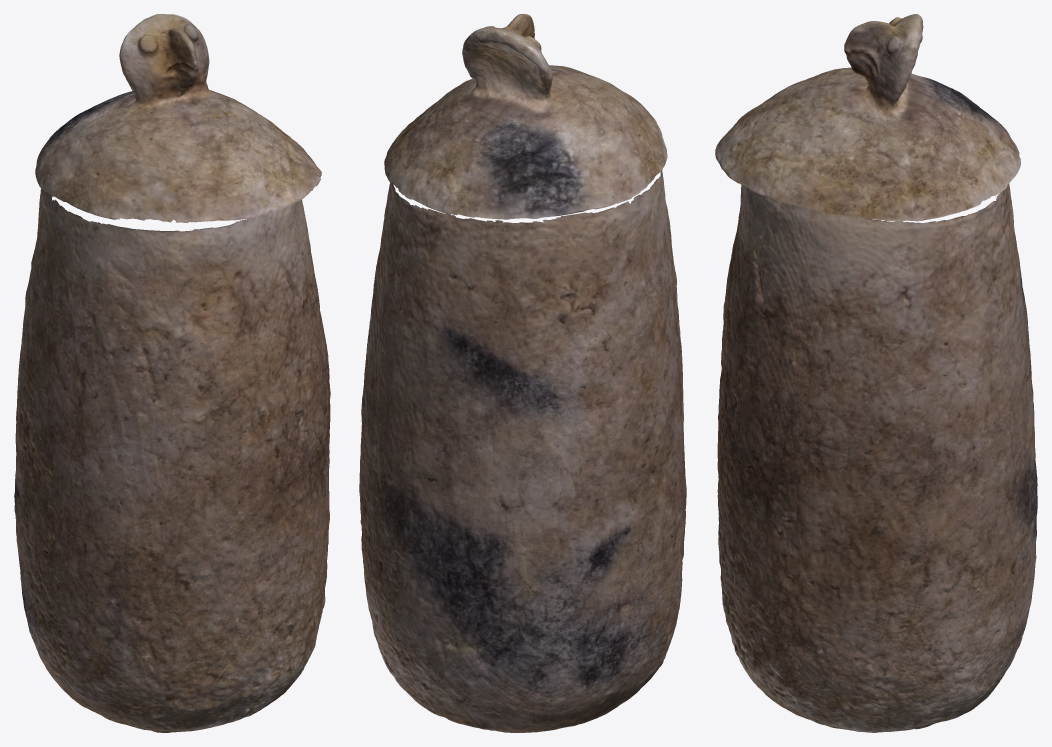
The picture shows the model from 3 angles, left to right: view 1: azimuth 30°, elevation 25°; view 2: azimuth 150°, elevation 25°; view 3: azimuth 270°, elevation 25°; orthographic projection. The views are drawn at different scales.
Visible parts, largest first — view 1: Mesh_0.024; view 2: Mesh_0.024; view 3: Mesh_0.024.
Part boxes in pixels (<box>): Mesh_0.024: <box>14,14,330,732</box>; Mesh_0.024: <box>359,14,686,732</box>; Mesh_0.024: <box>715,14,1037,732</box>.
Size of the model in its own units: 0.0837 by 0.1956 by 0.0834.
1 material, 1 textured.
